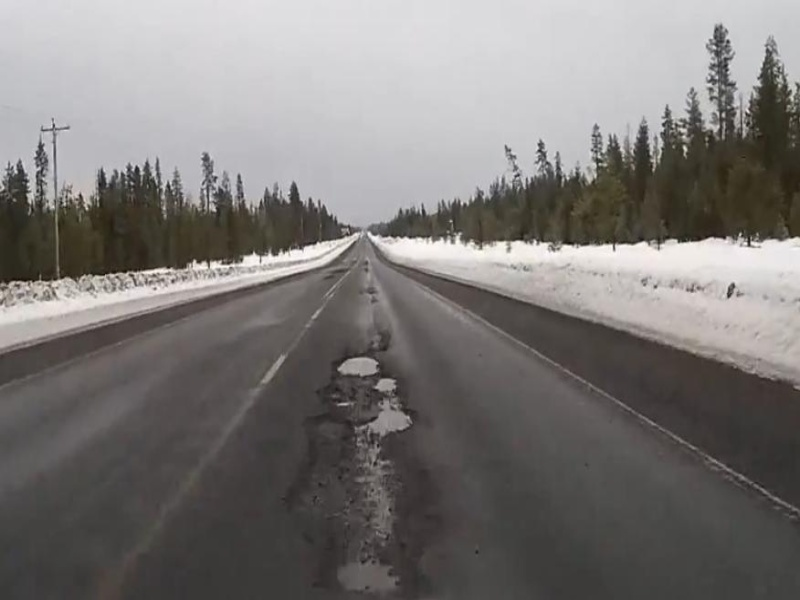pothole: (353, 402, 420, 436), (331, 353, 380, 380), (371, 377, 400, 397)
